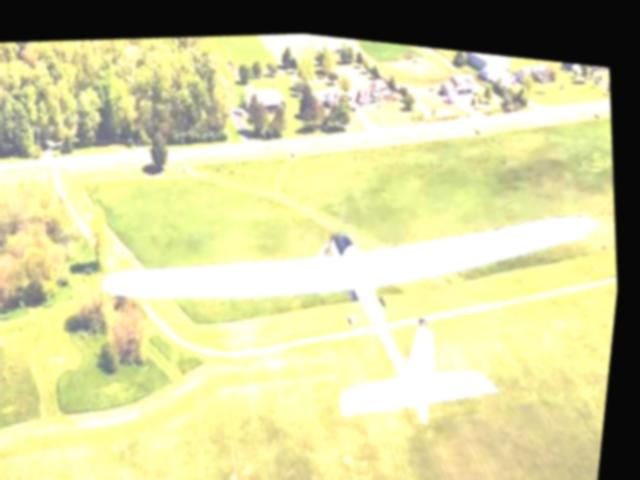iha: (89, 160, 626, 464)
